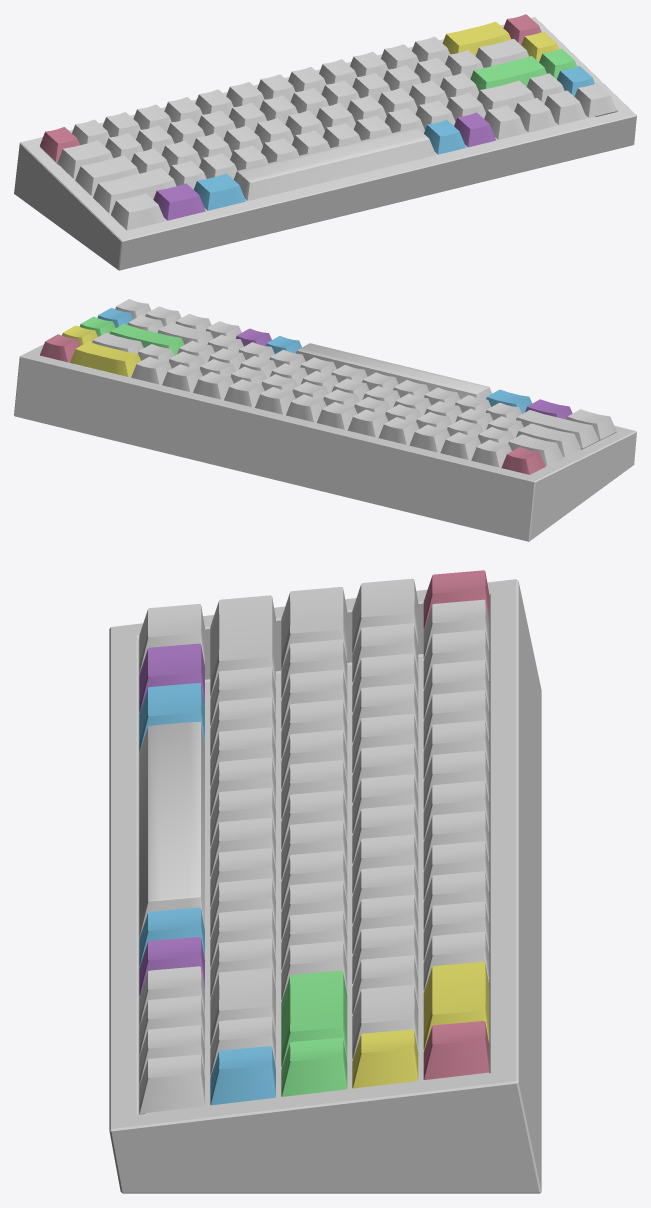
The model's file is Keyboard.gltf.
The picture shows the model from 3 angles, top to bottom: view 1: azimuth 30°, elevation 25°; view 2: azimuth 150°, elevation 25°; view 3: azimuth 270°, elevation 25°; orthographic projection. The views are drawn at different scales.
Parts seen in each view (by area): view 1: NK.65; view 2: NK.65; view 3: NK.65.
Boxes of the visible parts, x1,y1,x2,y2 form: NK.65: (14,14,636,270); NK.65: (14,299,636,541); NK.65: (109,570,541,1193).
Size of the model in its own units: 0.3191 by 0.0432 by 0.1157.
